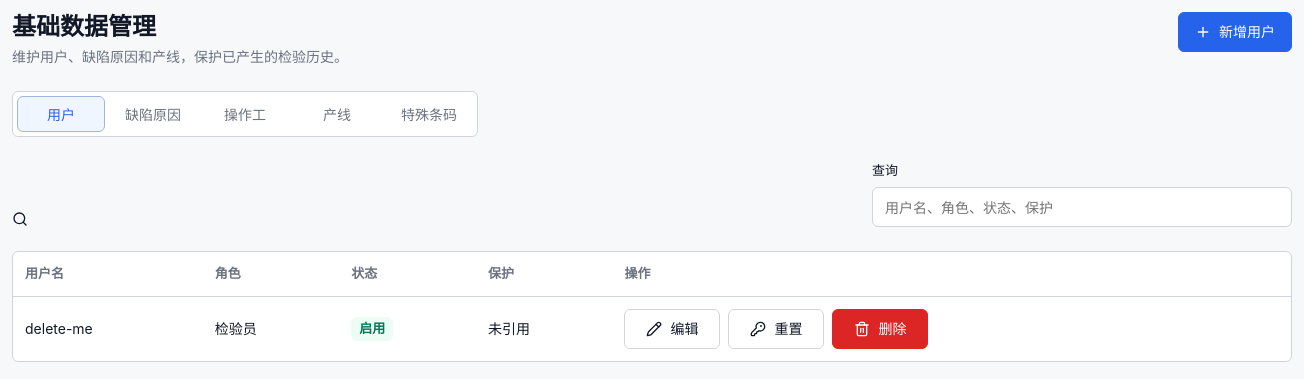
Scenario: MasterDataPage › deletes an unreferenced user and refreshes user data
Click the button with aria-label "删除用户 delete-me": (880, 329) [832,309,928,349]
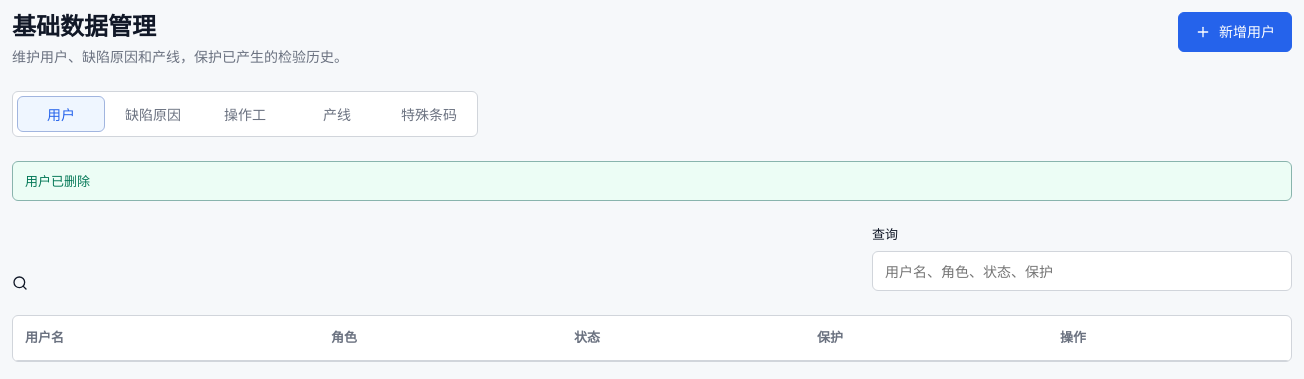
Now the text "用户已删除" is shown, box [12,161,1292,201]
